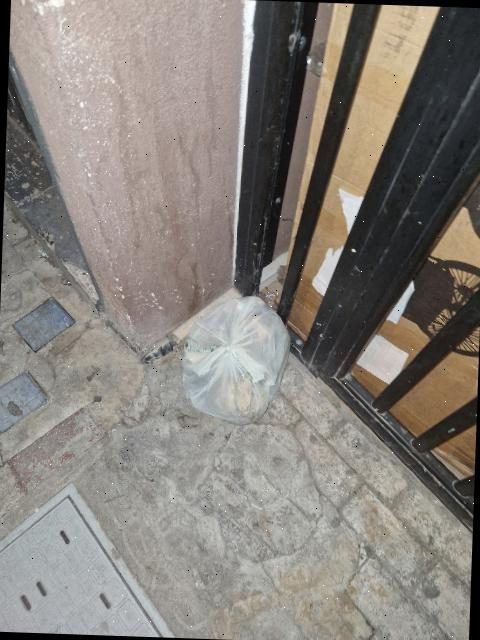Organic -White-: (182, 296, 290, 425)
